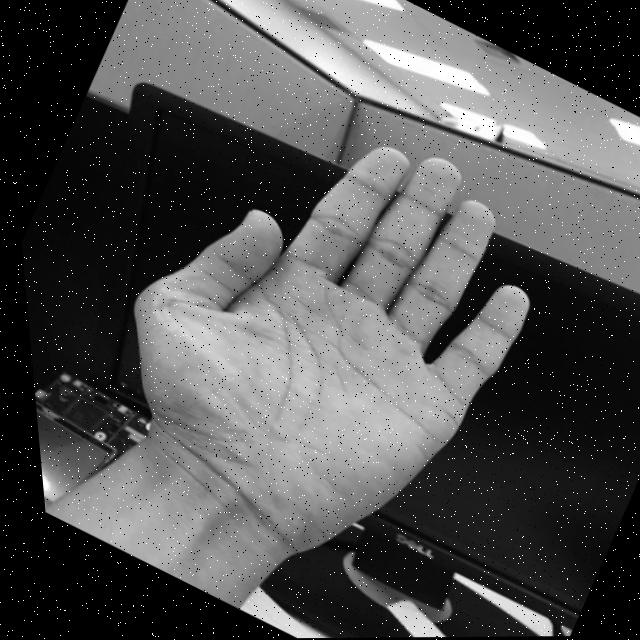hand: (37, 53, 596, 604)
